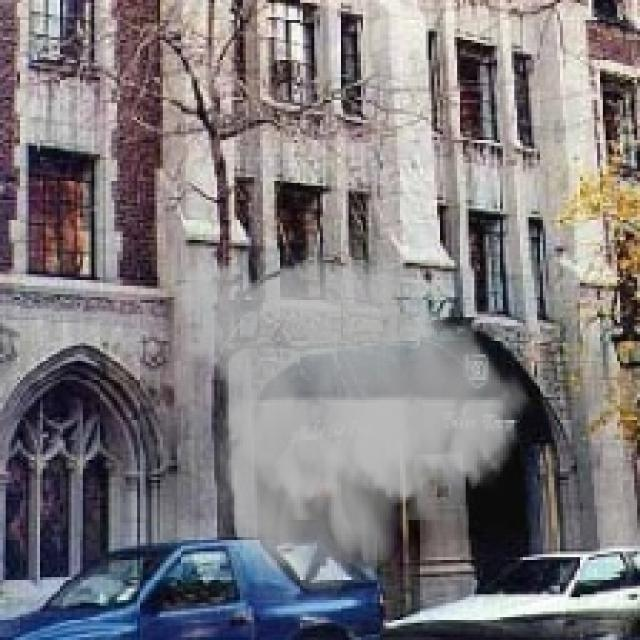smoke: (157, 240, 540, 603)
